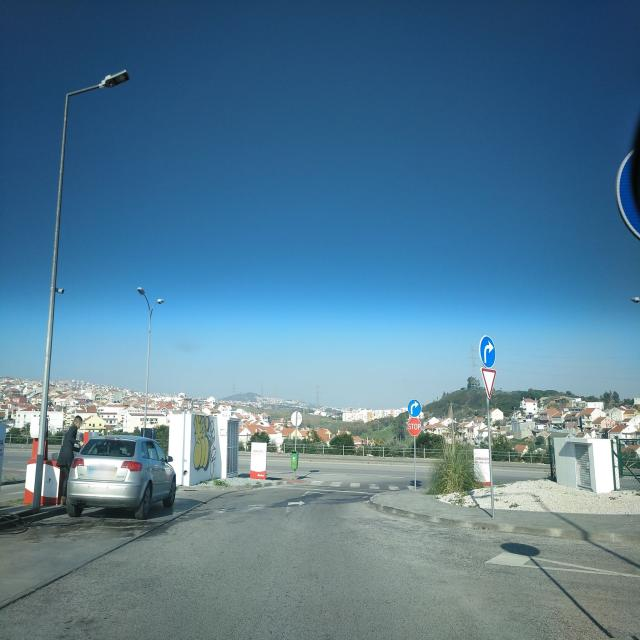car: (67, 433, 177, 519), (532, 418, 550, 431), (549, 417, 566, 429)
